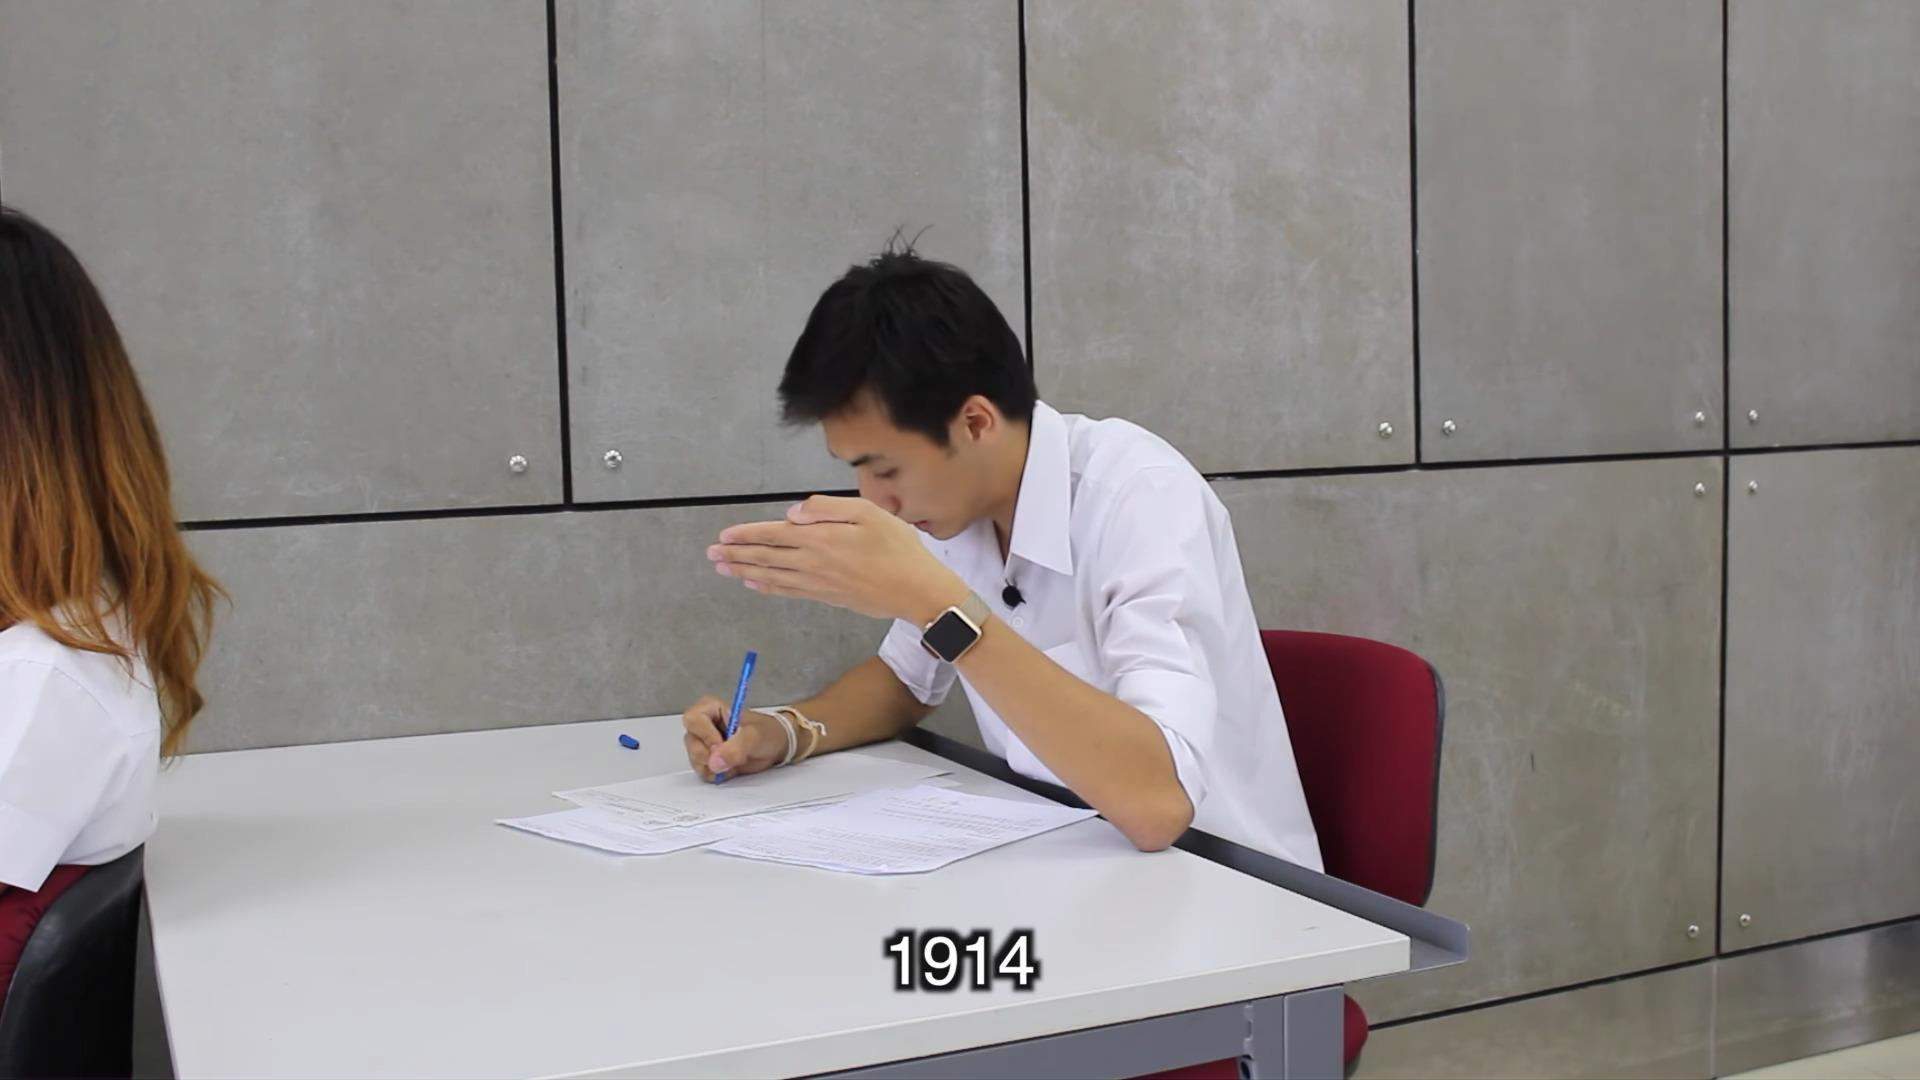cheating: (455, 220, 1381, 907)
